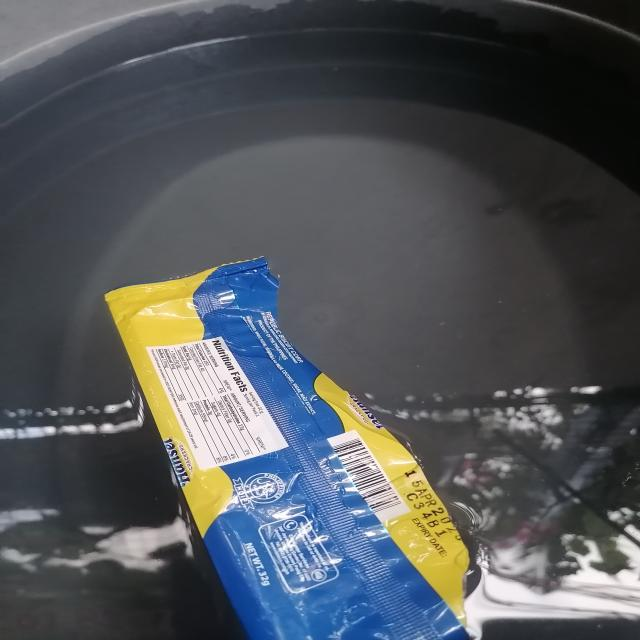Plastic Wrapper: (105, 258, 470, 640)
